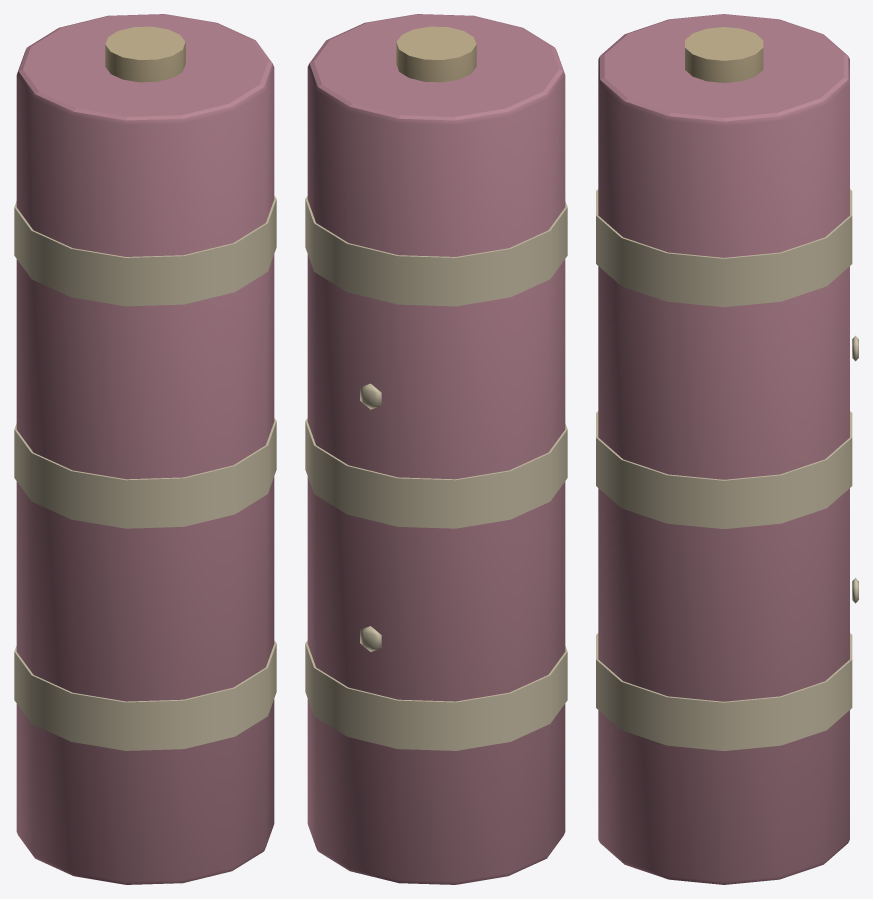
Rendered from gift_wrap.glb.
The picture shows the model from 3 angles, left to right: view 1: azimuth 30°, elevation 25°; view 2: azimuth 150°, elevation 25°; view 3: azimuth 270°, elevation 25°; orthographic projection.
Size of the model in its own units: 0.118 by 0.391 by 0.118.
